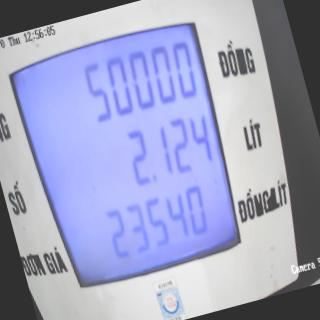screen: (0, 0, 261, 303)
